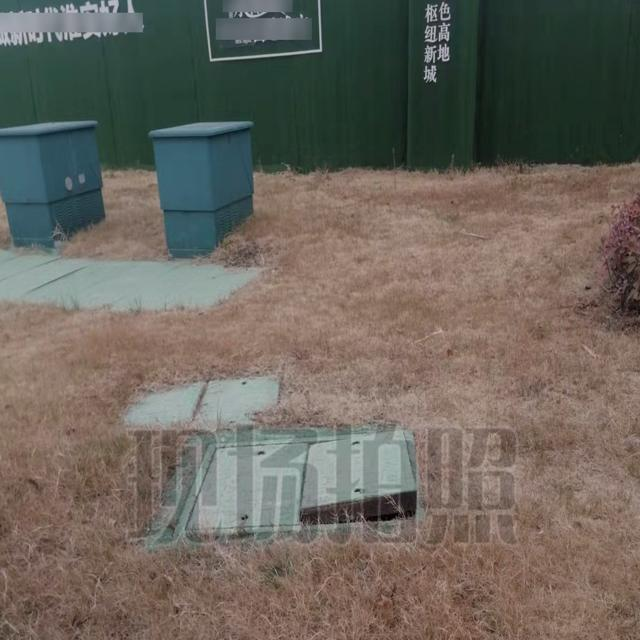uncovered: (178, 421, 423, 537)
